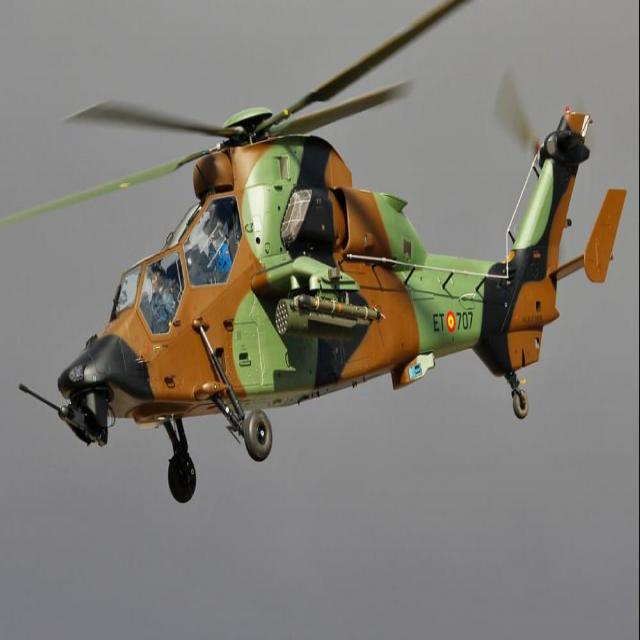MIL_HELO: (0, 0, 631, 496)
